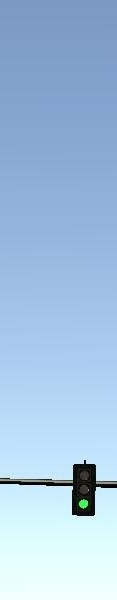Green: (72, 464, 97, 517)
